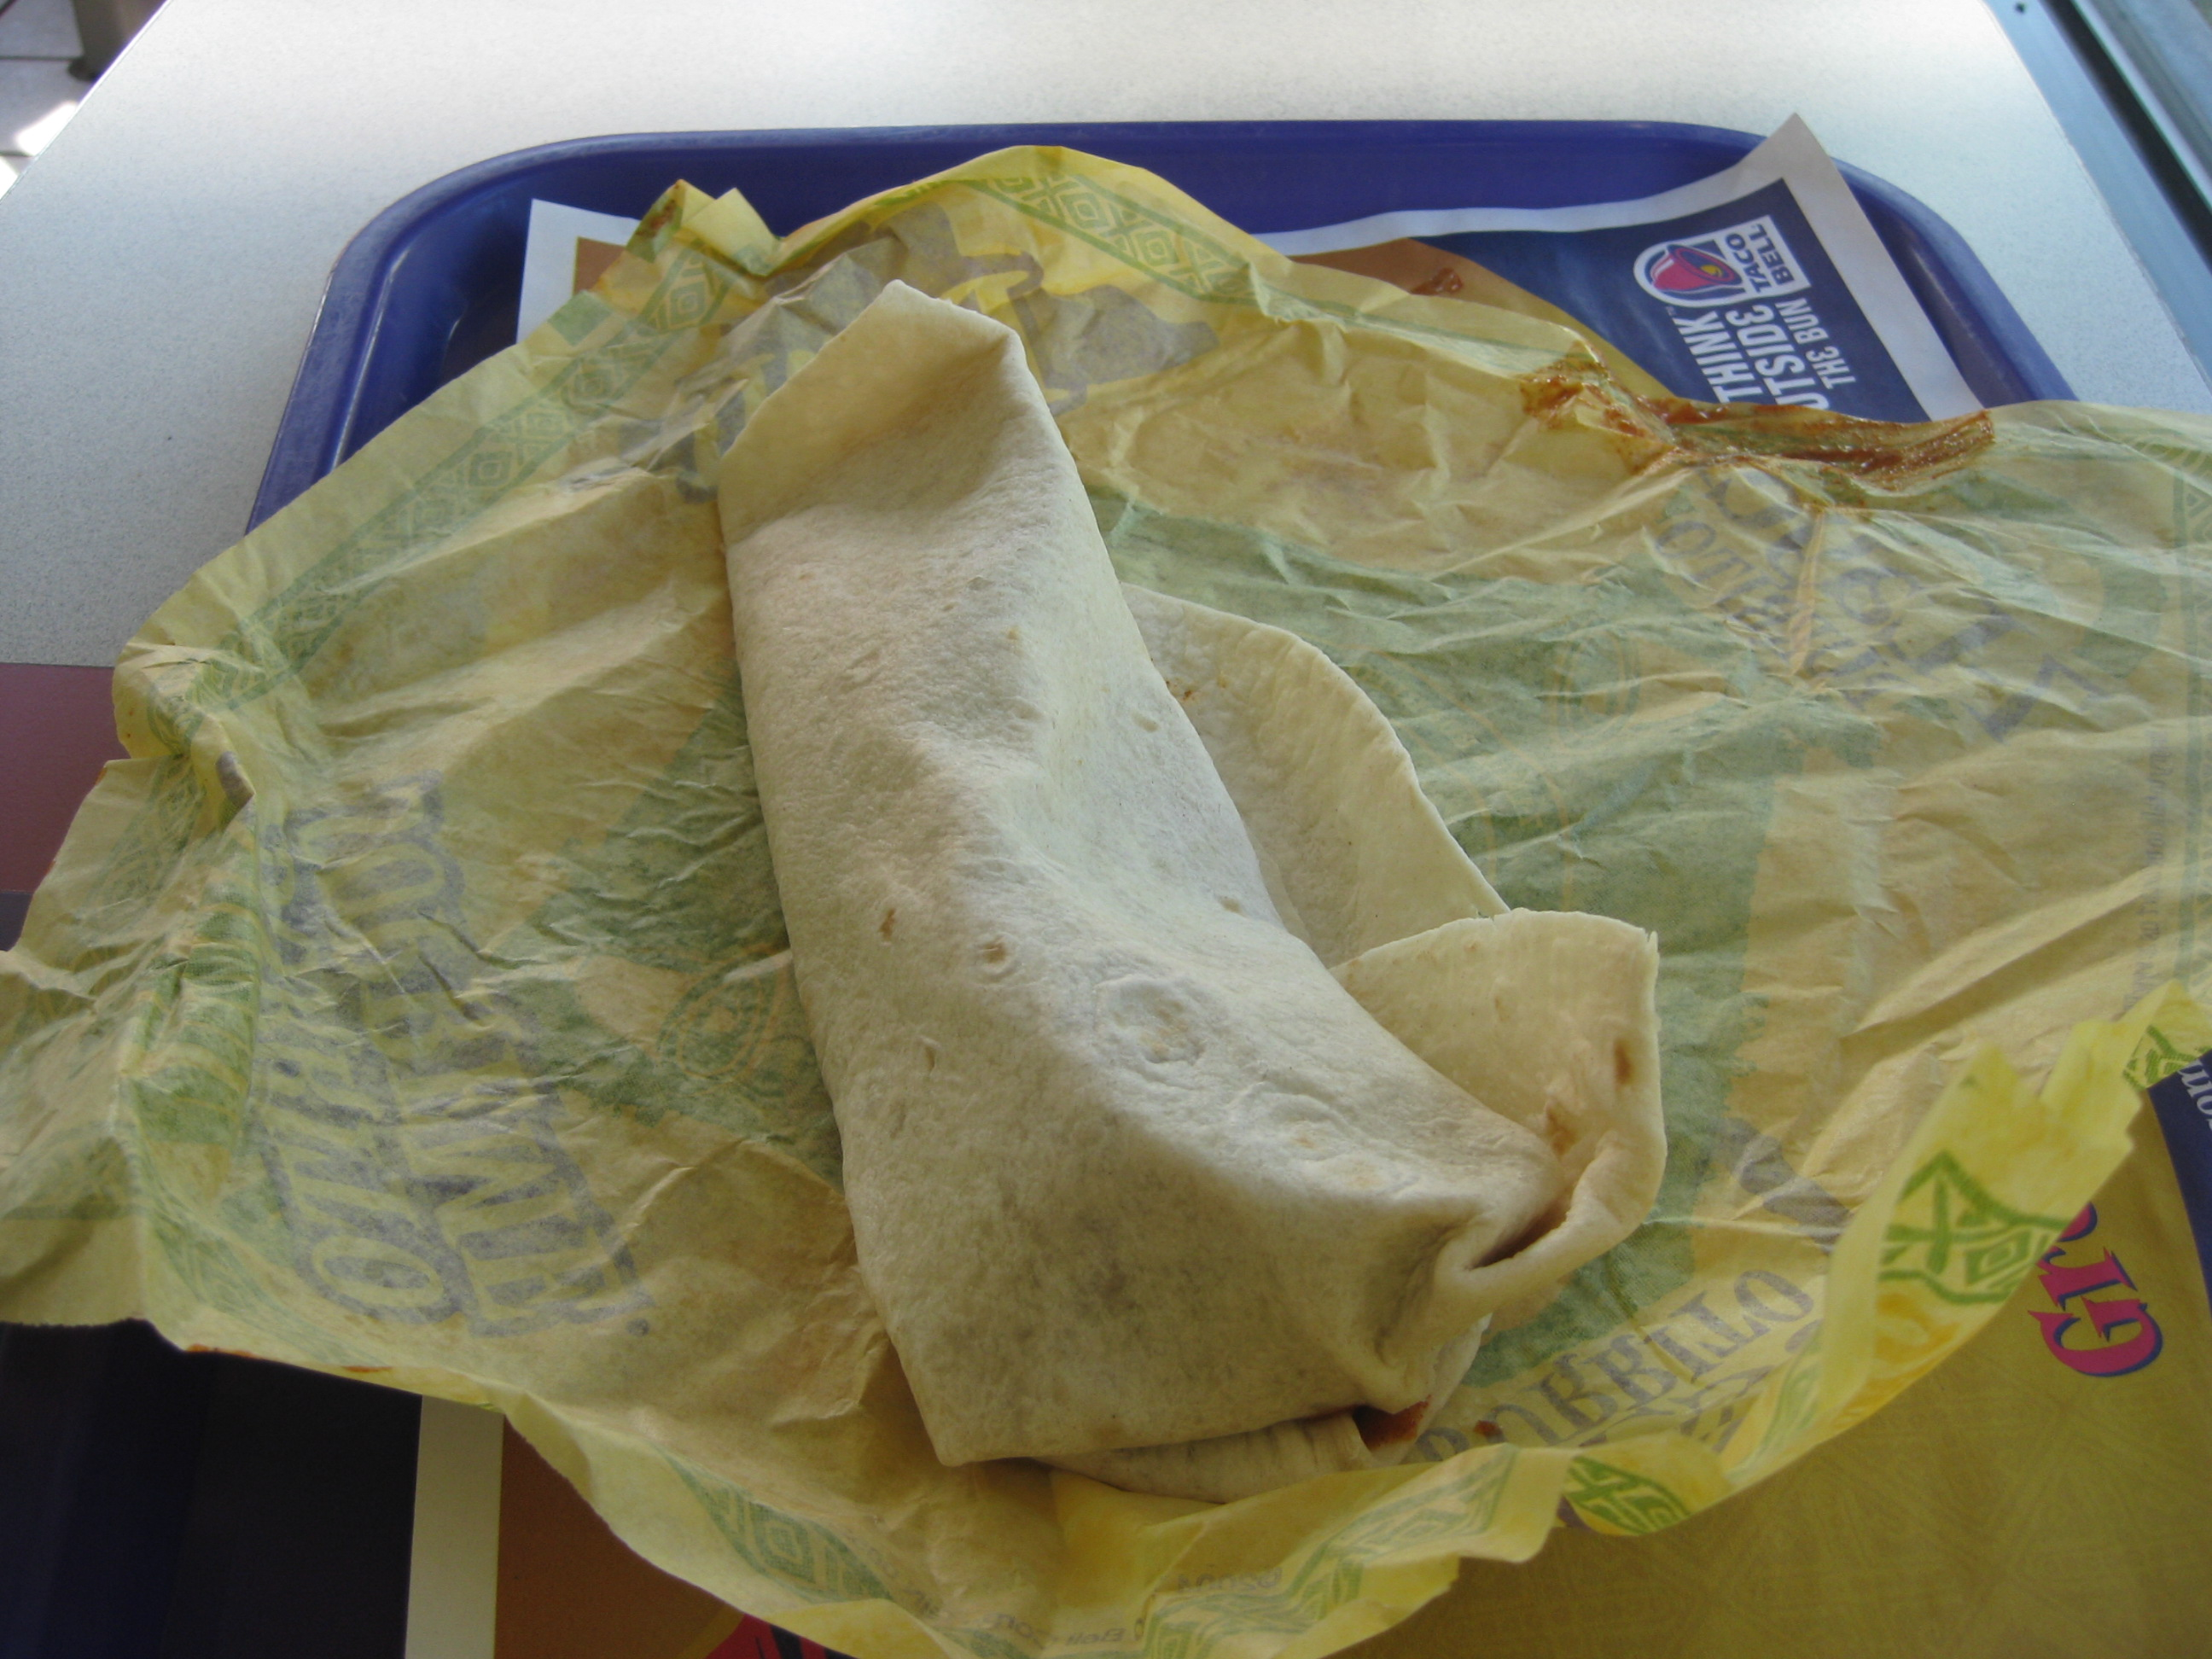burrito: (663, 247, 1738, 1497)
